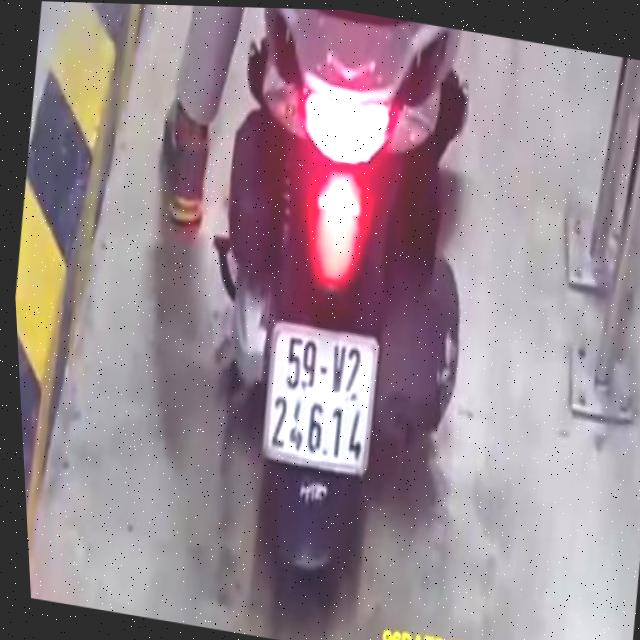motorcycle: (145, 4, 553, 617)
plate: (247, 314, 394, 484)
